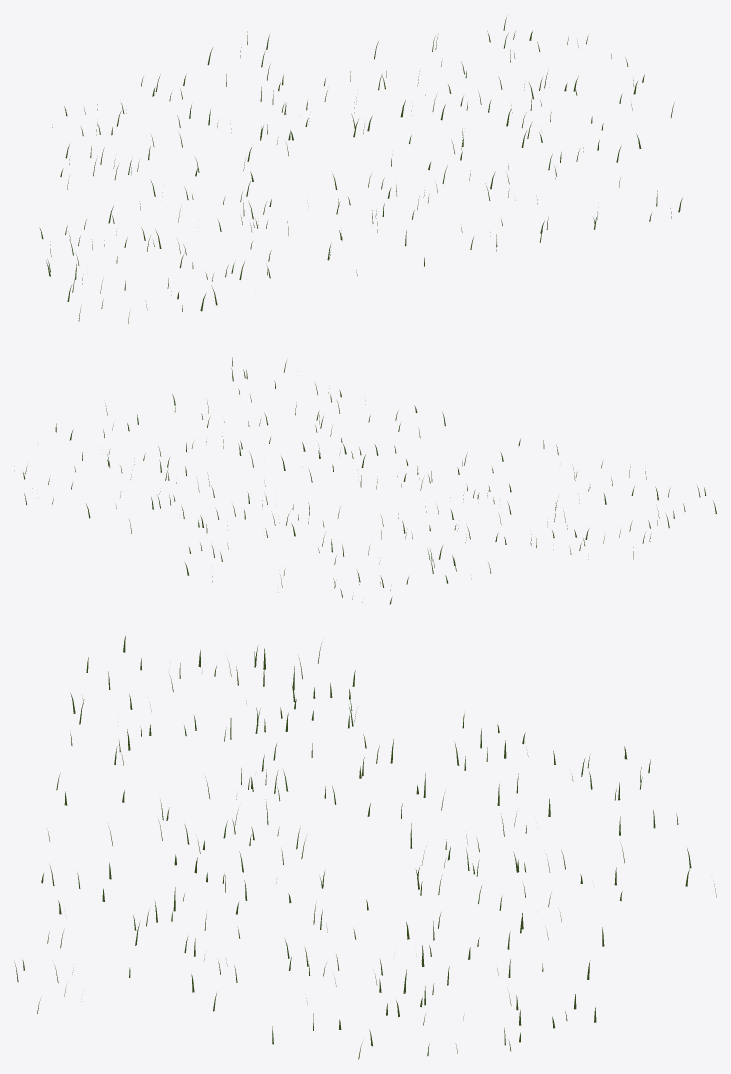
3 views of the same model, one above another, from view 1: azimuth 30°, elevation 25°; view 2: azimuth 150°, elevation 25°; view 3: azimuth 270°, elevation 25° (orthographic). The views are drawn at different scales.
Visible parts, largest first — view 1: GrassPatch; view 2: GrassPatch; view 3: GrassPatch.
Boxes of the visible parts, x1,y1,x2,y2 form: GrassPatch: (39,17,682,323); GrassPatch: (14,357,716,604); GrassPatch: (14,635,716,1059).
Size of the model in its own units: 17.05 by 0.4916 by 12.42.
